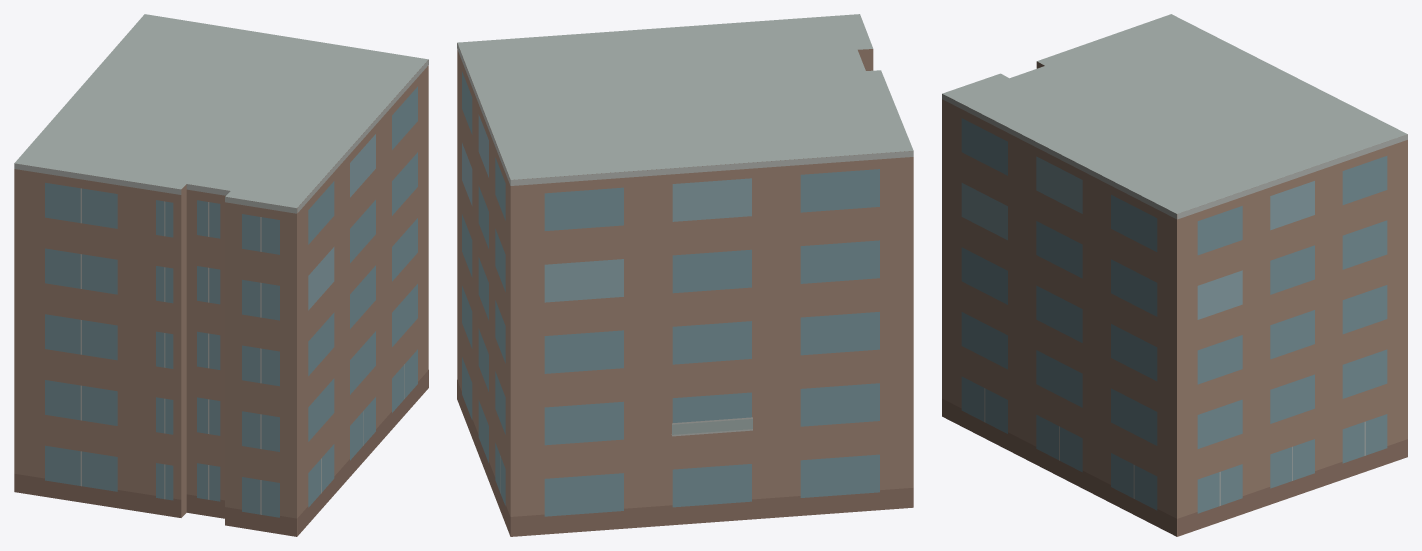
Rendered from survey-upis-32867114.glb.
The picture shows the model from 3 angles, left to right: view 1: azimuth 30°, elevation 25°; view 2: azimuth 150°, elevation 25°; view 3: azimuth 270°, elevation 25°; orthographic projection. The views are drawn at different scales.
Parts seen in each view (by area): view 1: survey-upis-32867114.tmp; view 2: survey-upis-32867114.tmp; view 3: survey-upis-32867114.tmp.
Part boxes in pixels (x1,y1,x2,y2): survey-upis-32867114.tmp: (14,14,428,536); survey-upis-32867114.tmp: (457,14,913,536); survey-upis-32867114.tmp: (942,14,1407,536).
Size of the model in its own units: 19.01 by 14.3 by 18.7.
